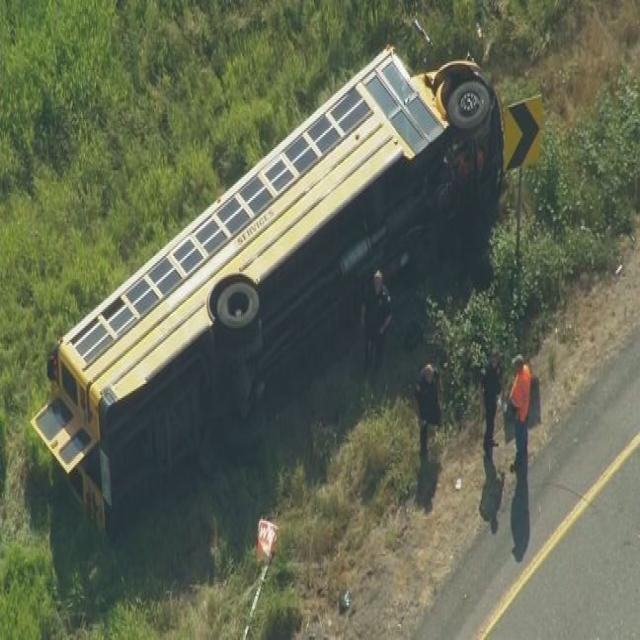Accident: (30, 31, 548, 542)
